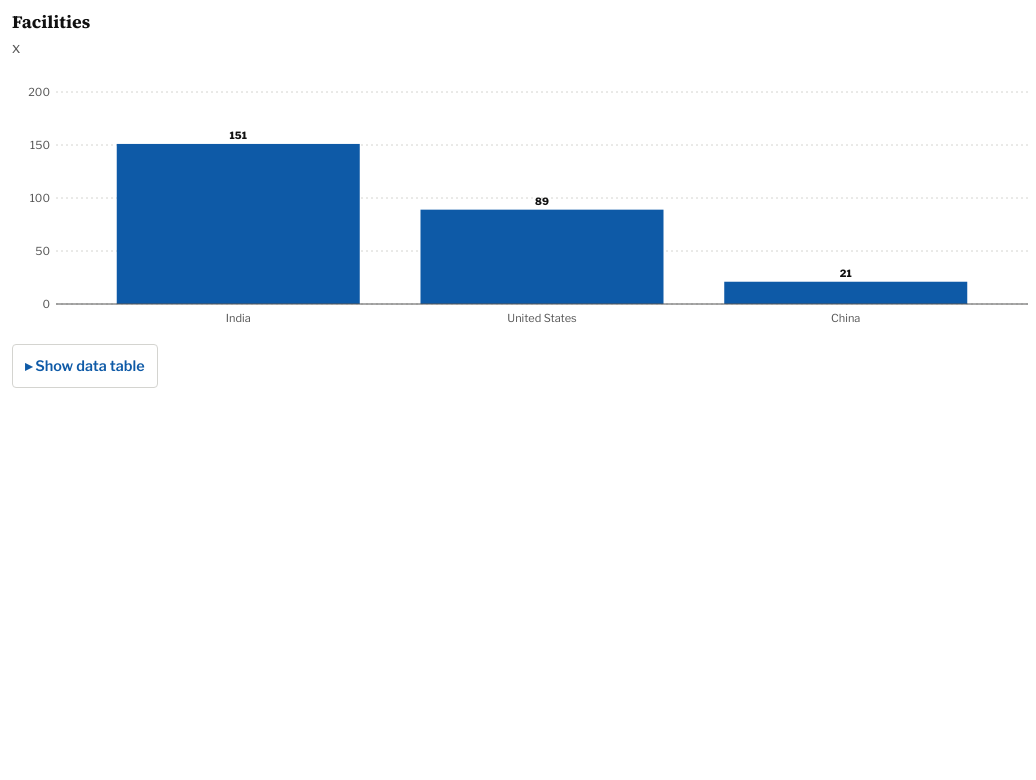
Test case: BarChart › toggles an accessible data table
Click the button "▸ Show data table" at (85, 366), box [12,344,158,388]
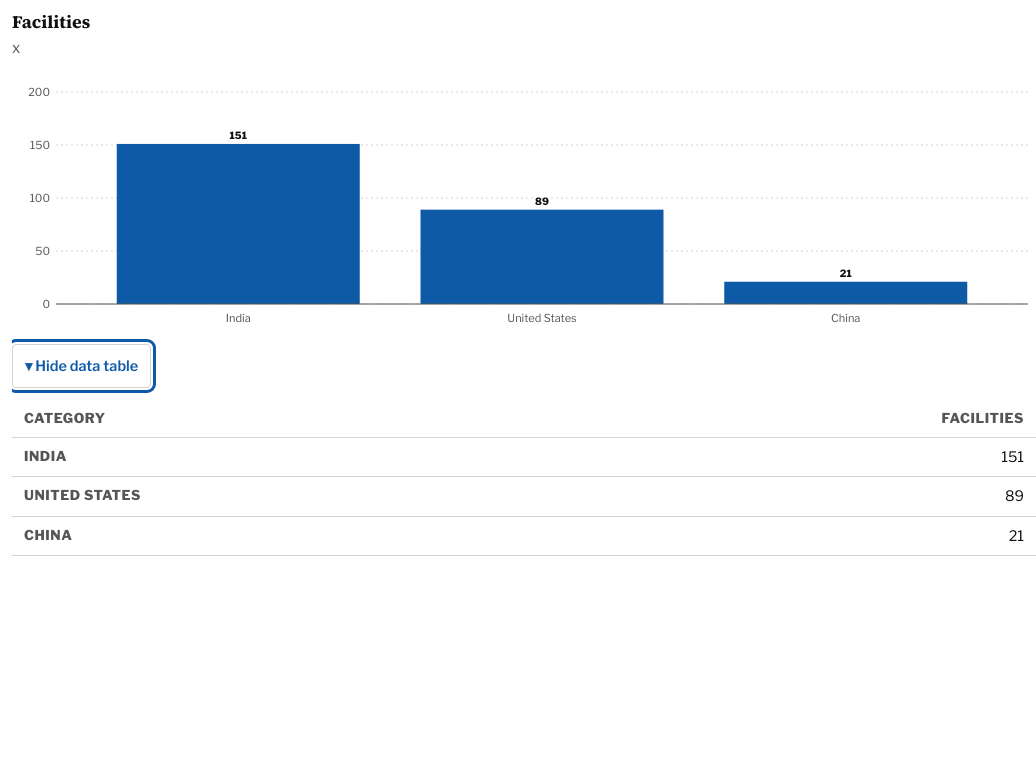
Result: the button named "show data table" is expanded at [12,344,151,388]
Result: the column heading "China" is shown at [12,516,596,555]
Result: the cell "21" is shown at [596,516,1035,555]
